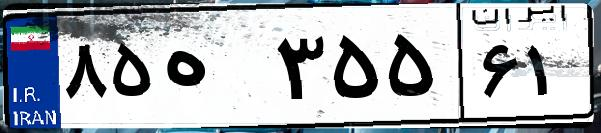1: (525, 38, 570, 115)
3: (270, 28, 330, 110)
5: (385, 28, 445, 110), (330, 28, 385, 110), (110, 28, 158, 98)
6: (475, 38, 525, 113)
8: (57, 26, 110, 100)
ه: (158, 20, 270, 120)
